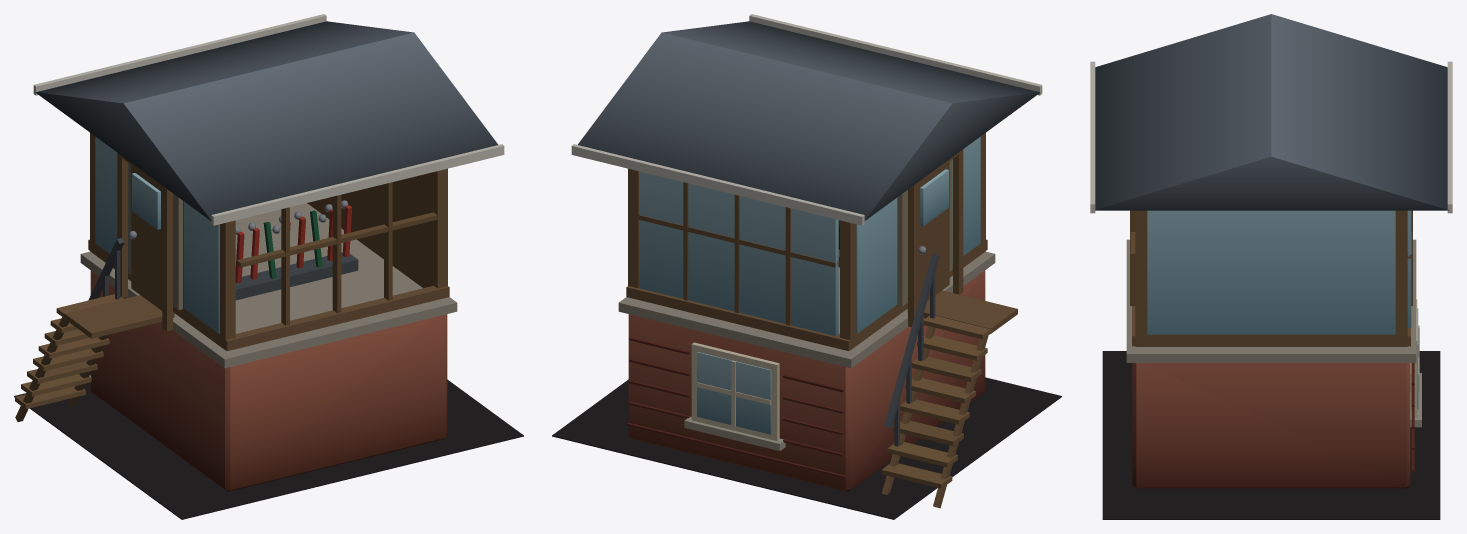
The model's file is signal-box.glb.
The picture shows the model from 3 angles, left to right: view 1: azimuth 30°, elevation 25°; view 2: azimuth 150°, elevation 25°; view 3: azimuth 270°, elevation 25°; orthographic projection.
Parts seen in each view (by area): view 1: signal_box; view 2: signal_box; view 3: signal_box.
Part boxes in pixels (x1,y1,x2,y2): signal_box: (14, 14, 523, 519); signal_box: (552, 14, 1061, 519); signal_box: (1090, 14, 1452, 519).
Bounding box in the file's own units: 4.27 × 3.92 × 3.65.
